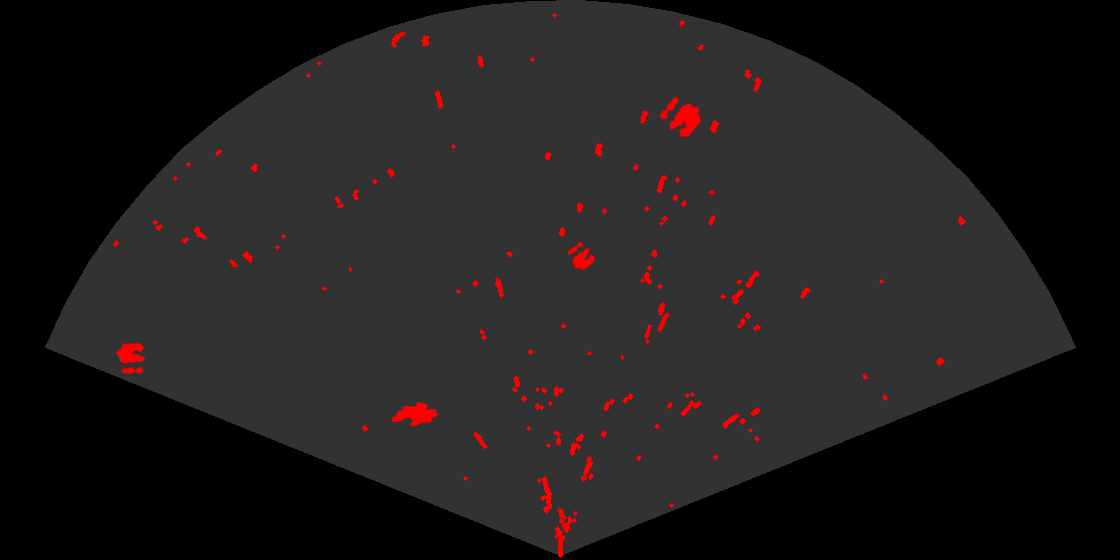AUV: (390, 400, 440, 428)
ball: (658, 95, 703, 139), (115, 342, 147, 375), (566, 240, 597, 271)
